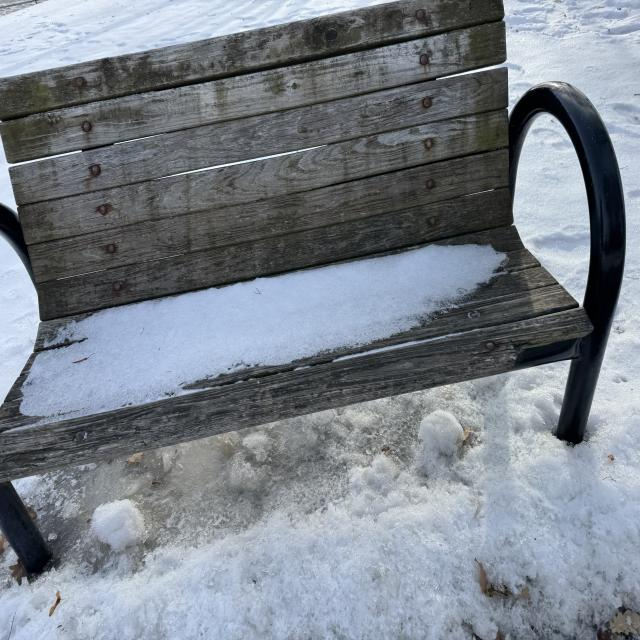Bench: (0, 69, 611, 485)
